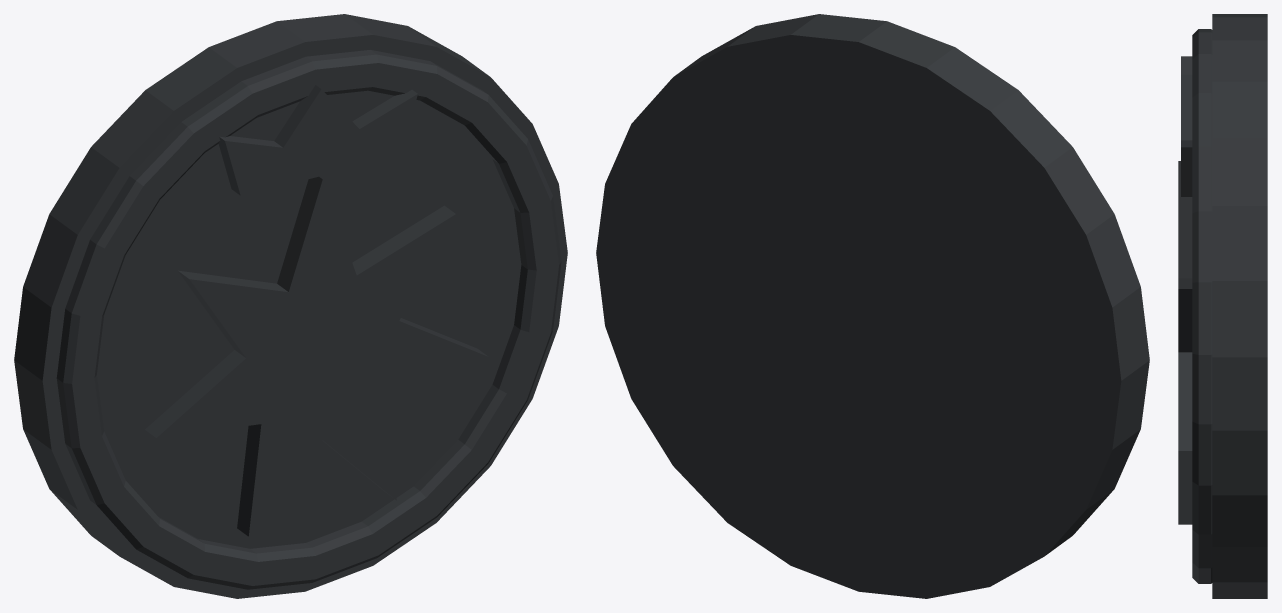
The model's file is GROSCHEN_COIN.shadow.glb.
3 renders of one model, left to right at view 1: azimuth 30°, elevation 25°; view 2: azimuth 150°, elevation 25°; view 3: azimuth 270°, elevation 25°, orthographic. The views are drawn at different scales.
Parts seen in each view (by area): view 1: Body_Mesh; view 2: Body_Mesh; view 3: Body_Mesh.
Boxes of the visible parts, x1=… form: Body_Mesh: x1=14, y1=14, x2=567, y2=598; Body_Mesh: x1=596, y1=14, x2=1149, y2=598; Body_Mesh: x1=1178, y1=14, x2=1267, y2=598.
Size of the model in its own units: 0.234 by 0.234 by 0.0355.
Materials: 1 (1 with a texture image).
